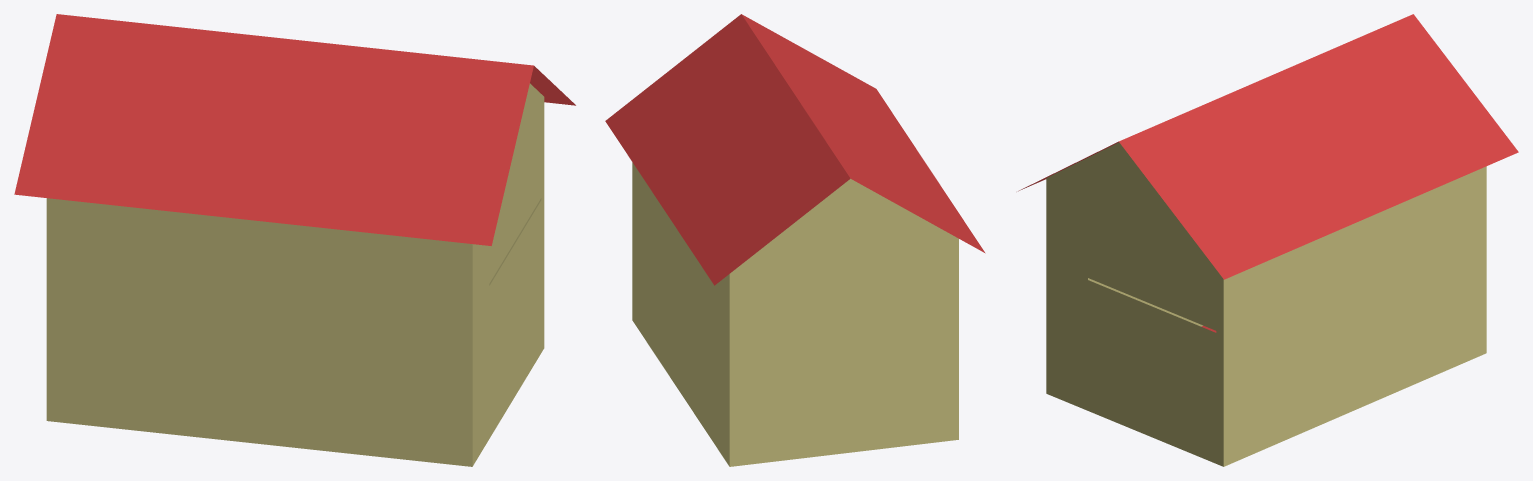
The picture shows the model from 3 angles, left to right: view 1: azimuth 30°, elevation 25°; view 2: azimuth 150°, elevation 25°; view 3: azimuth 270°, elevation 25°; orthographic projection. The views are drawn at different scales.
Size of the model in its own units: 22.22 by 22.13 by 14.29.
